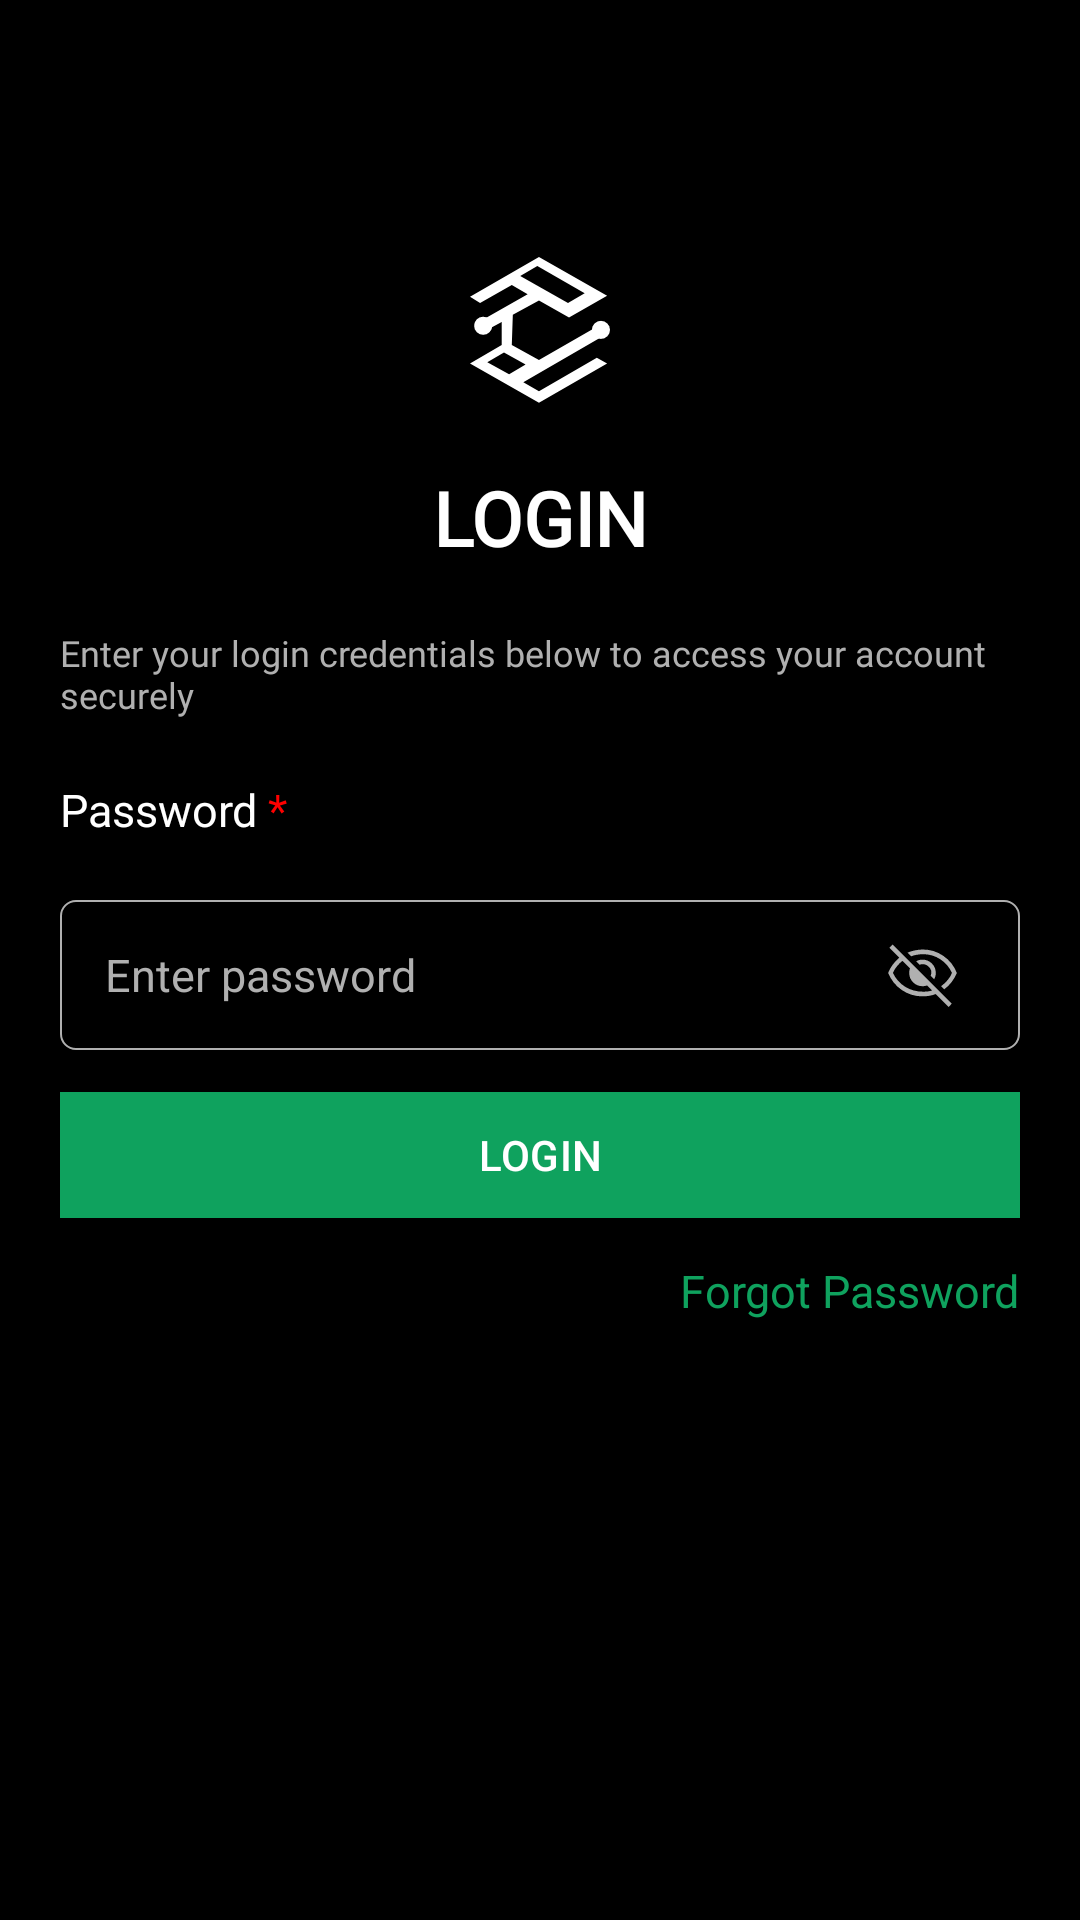

Named icons in this screenshot (1080px x 1920px) and their centers, point (x, y):
Show: point (922, 975)
